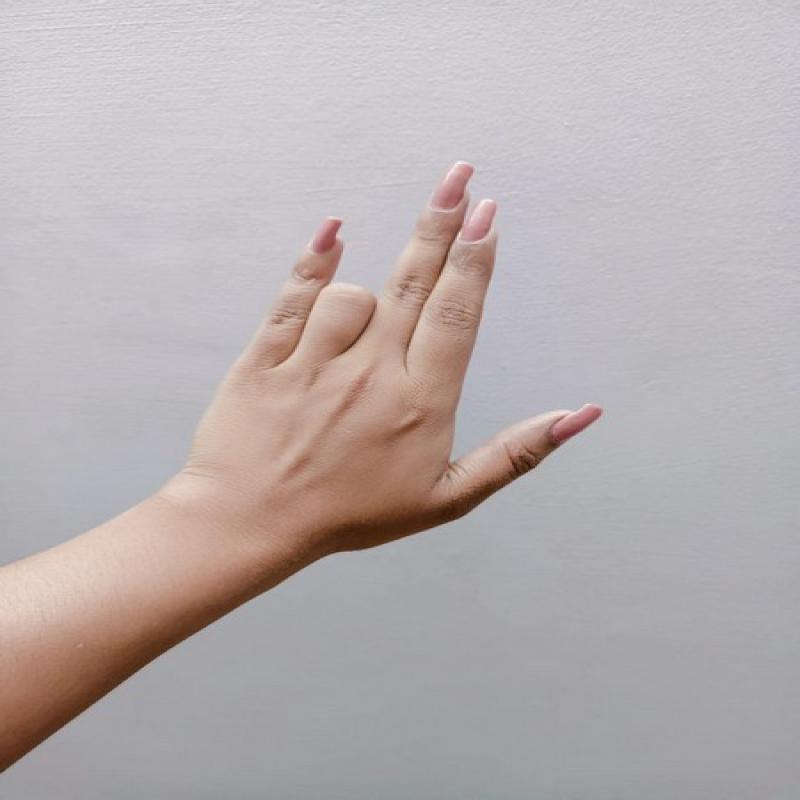Pathaaka: (178, 142, 611, 547)
